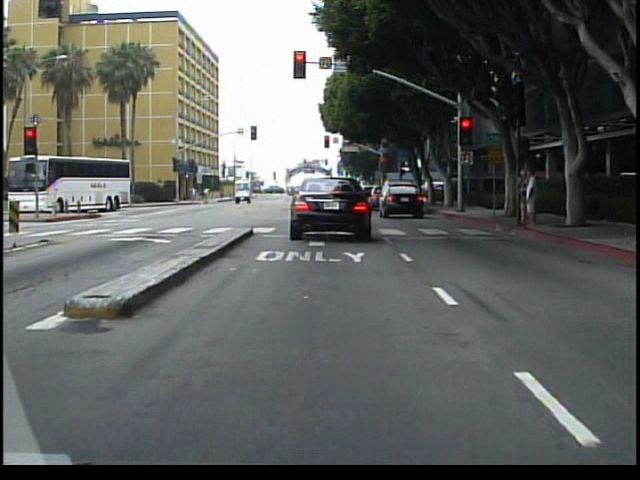person: (520, 168, 541, 233)
